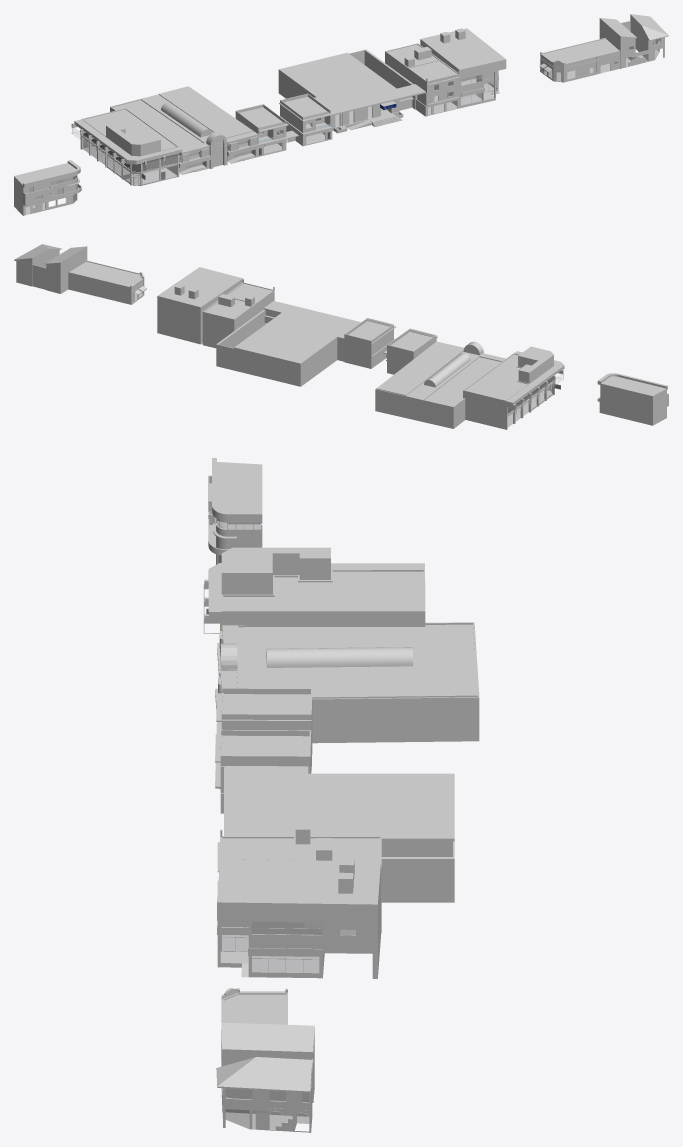
The model's file is edificios-frente-plaza-1.glb.
3 views of the same model, one above another, from view 1: azimuth 30°, elevation 25°; view 2: azimuth 150°, elevation 25°; view 3: azimuth 270°, elevation 25° (orthographic). The views are drawn at different scales.
Parts seen in each view (by area): view 1: Entorno plaza 1; view 2: Entorno plaza 1; view 3: Entorno plaza 1.
Part boxes in pixels (x1,y1,x2,y2): Entorno plaza 1: [14, 14, 668, 215]; Entorno plaza 1: [14, 244, 668, 429]; Entorno plaza 1: [203, 458, 479, 1132].
Bounding box in the file's own units: 199 × 13.42 × 37.72.
Materials: 12 (6 with a texture image).
